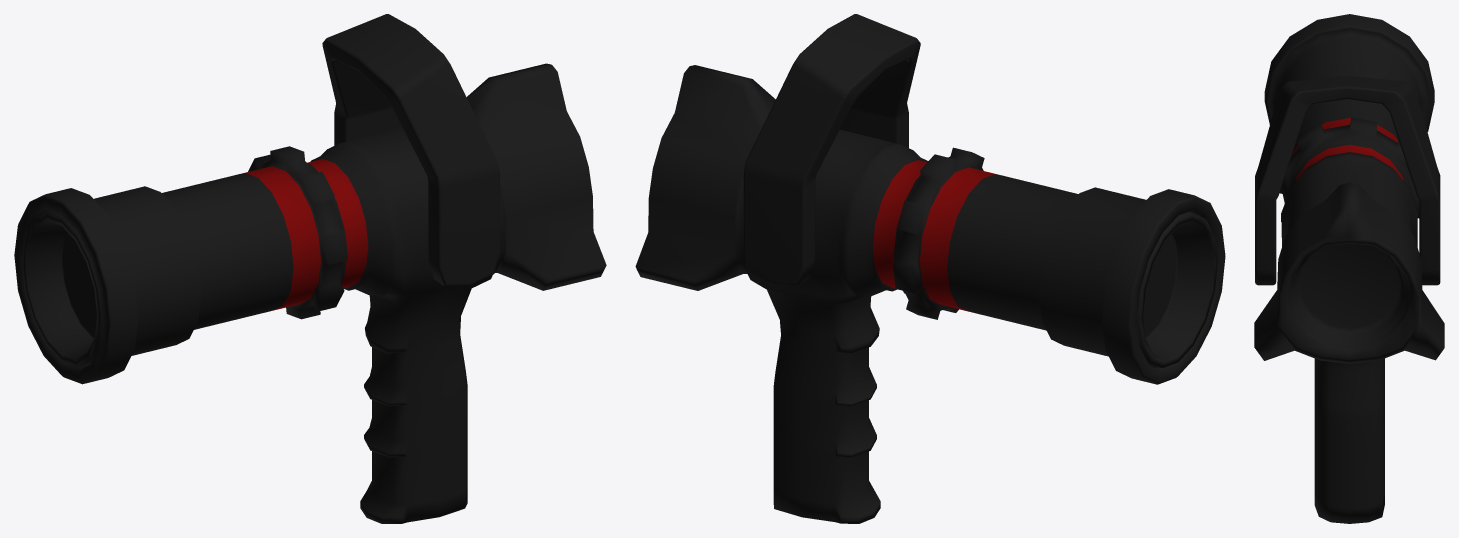
Rendered from FireHoseNozzle.fbx.
3 renders of one model, left to right at view 1: azimuth 30°, elevation 25°; view 2: azimuth 150°, elevation 25°; view 3: azimuth 270°, elevation 25°, orthographic. The views are drawn at different scales.
Parts seen in each view (by area): view 1: pCube153; view 2: pCube153; view 3: pCube153.
Part boxes in pixels (x1,y1,x2,y2): pCube153: [14, 14, 606, 523]; pCube153: [635, 14, 1225, 523]; pCube153: [1254, 14, 1444, 523].
Size of the model in its own units: 38.6 by 36.01 by 14.84.
